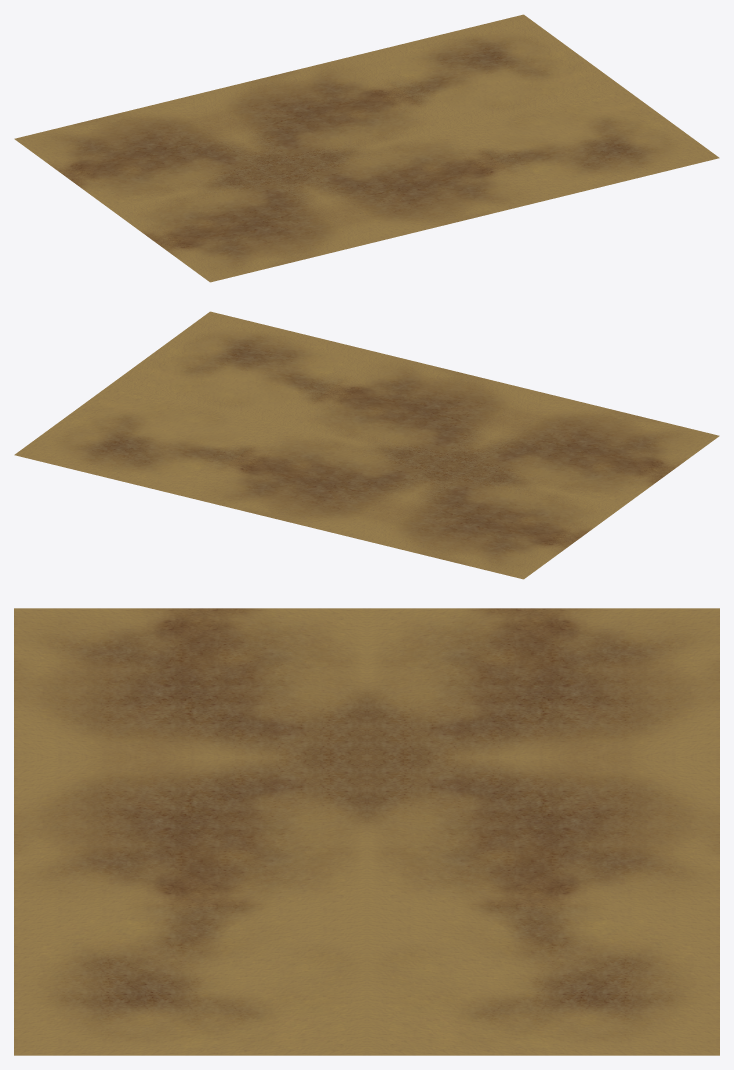
The model's file is Redrock_Canyon_3F01.FBX.
3 renders of one model, top to bottom at view 1: azimuth 30°, elevation 25°; view 2: azimuth 150°, elevation 25°; view 3: azimuth 270°, elevation 25°, orthographic. The views are drawn at different scales.
Visible parts, largest first — view 1: Redrock_Canyon_3F01; view 2: Redrock_Canyon_3F01; view 3: Redrock_Canyon_3F01.
Part boxes in pixels (box(x1,y1,x2,y2)): Redrock_Canyon_3F01: box(14, 14, 719, 282); Redrock_Canyon_3F01: box(14, 311, 719, 579); Redrock_Canyon_3F01: box(14, 608, 719, 1055).
Bounding box in the file's own units: 48 × 2.81e-05 × 32.
